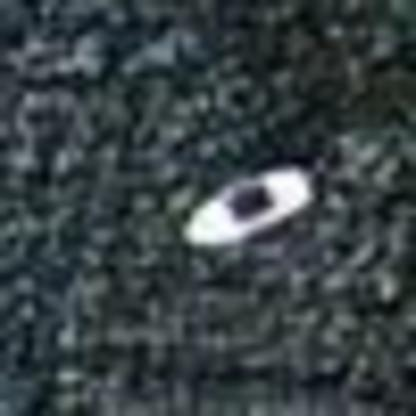ship: (170, 156, 328, 253)
